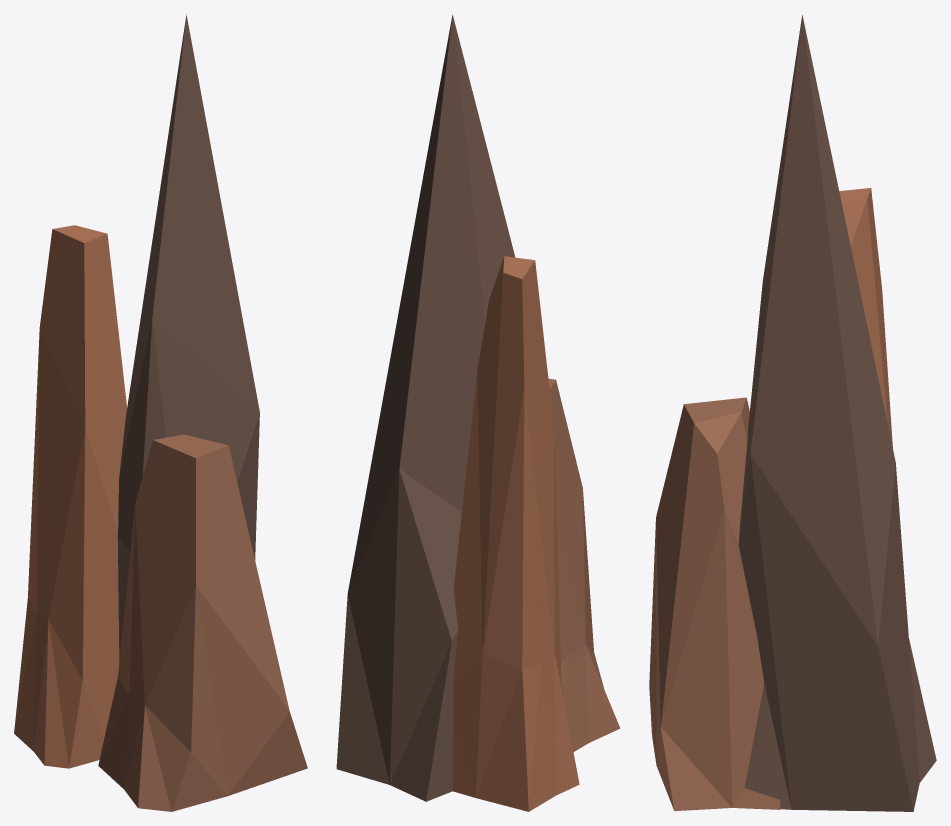
File: RAS_Rock04.fbx
3 renders of one model, left to right at view 1: azimuth 30°, elevation 25°; view 2: azimuth 150°, elevation 25°; view 3: azimuth 270°, elevation 25°, orthographic. The views are drawn at different scales.
Parts seen in each view (by area): view 1: RAS_Rock04; view 2: RAS_Rock04; view 3: RAS_Rock04.
Part boxes in pixels (<box>): RAS_Rock04: <box>14,14,307,811</box>; RAS_Rock04: <box>336,15,620,811</box>; RAS_Rock04: <box>649,15,936,811</box>.
Bounding box in the file's own units: 42.43 × 145 × 49.47.
Materials: 1 (1 with a texture image).
